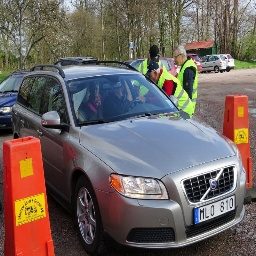sv_licence_plate: (194, 195, 235, 224)
